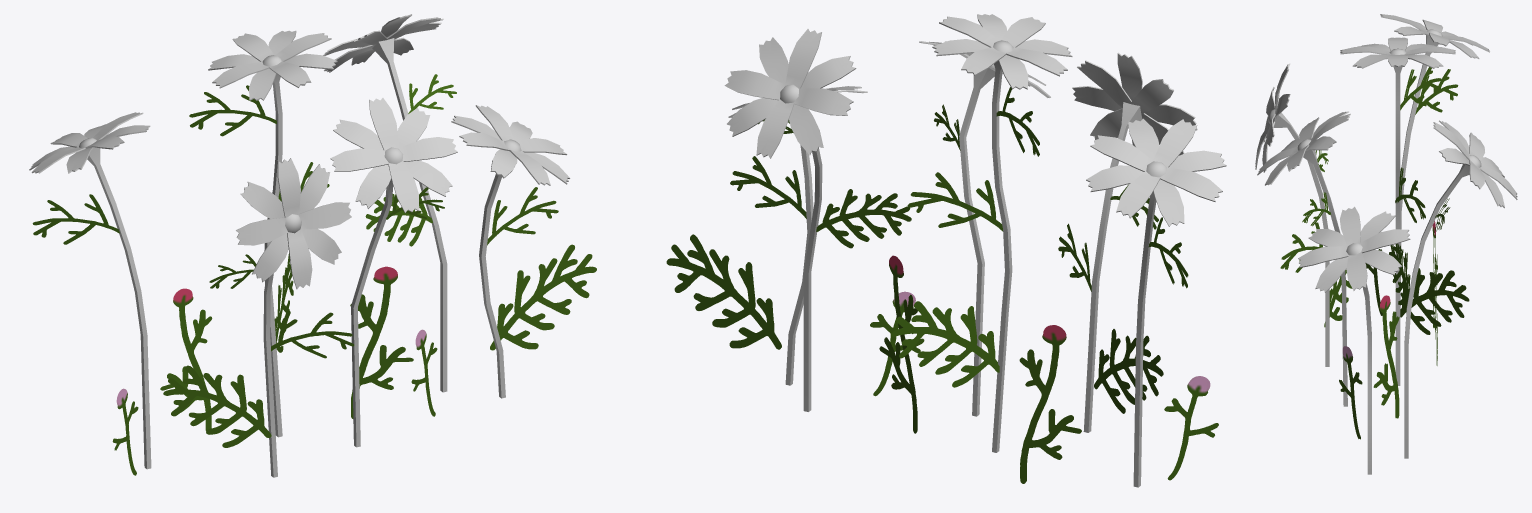
File: Prefab_Flower_Pink_Autumn.fbx
The picture shows the model from 3 angles, left to right: view 1: azimuth 30°, elevation 25°; view 2: azimuth 150°, elevation 25°; view 3: azimuth 270°, elevation 25°; orthographic projection. The views are drawn at different scales.
Parts seen in each view (by area): view 1: Flower_Pink_Autumn; view 2: Flower_Pink_Autumn; view 3: Flower_Pink_Autumn.
Boxes of the visible parts, left/top/right/bottom form: Flower_Pink_Autumn: left=29, top=14, right=596, bottom=477; Flower_Pink_Autumn: left=666, top=14, right=1226, bottom=487; Flower_Pink_Autumn: left=1255, top=14, right=1517, bottom=474.
Size of the model in its own units: 96.29 by 65.14 by 44.94.
